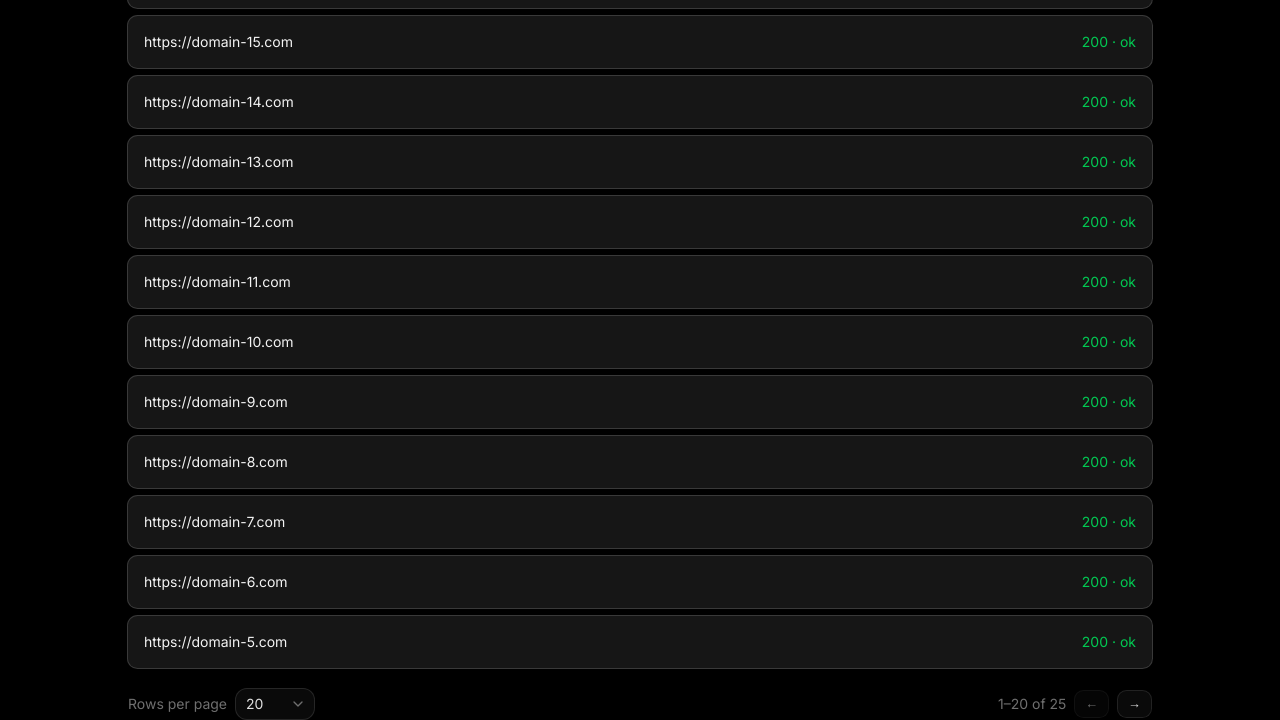
Test: ResultsTable › navigates to next page
(page scrolled)
Click the button "→": (1135, 704) [1117,690,1152,718]
(page scrolled)
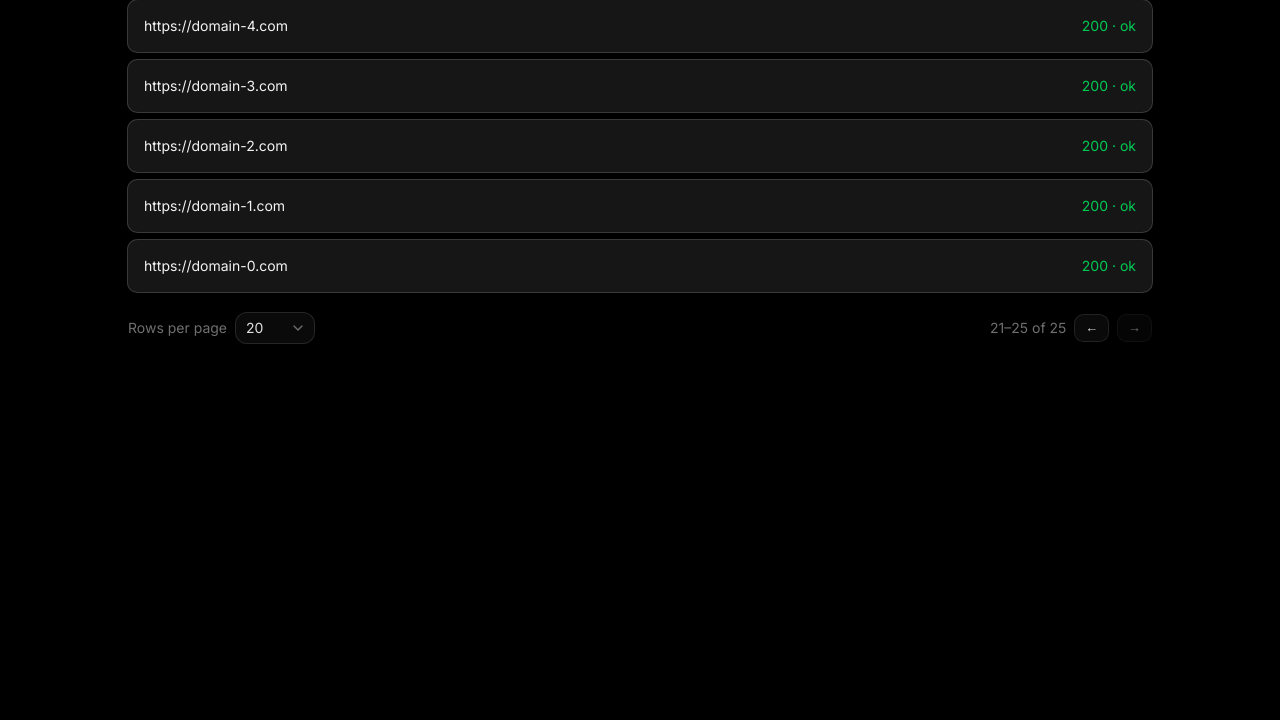
Expected: the text "21–25 of 25" is shown, [990,318,1066,338]
